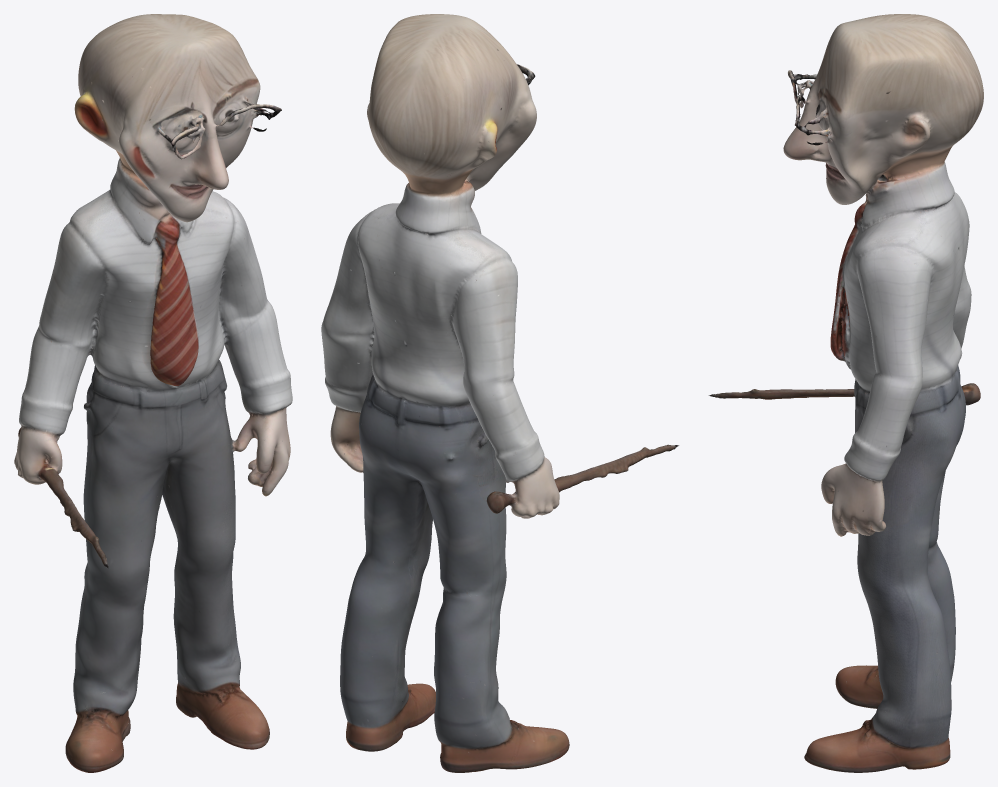
File: Meshy_AI_Harry_0423113026_texture.glb
3 views of the same model, side by side, from view 1: azimuth 30°, elevation 25°; view 2: azimuth 150°, elevation 25°; view 3: azimuth 270°, elevation 25° (orthographic).
Size of the model in its own units: 0.7808 by 2 by 0.7019.
1 material, 1 textured.
